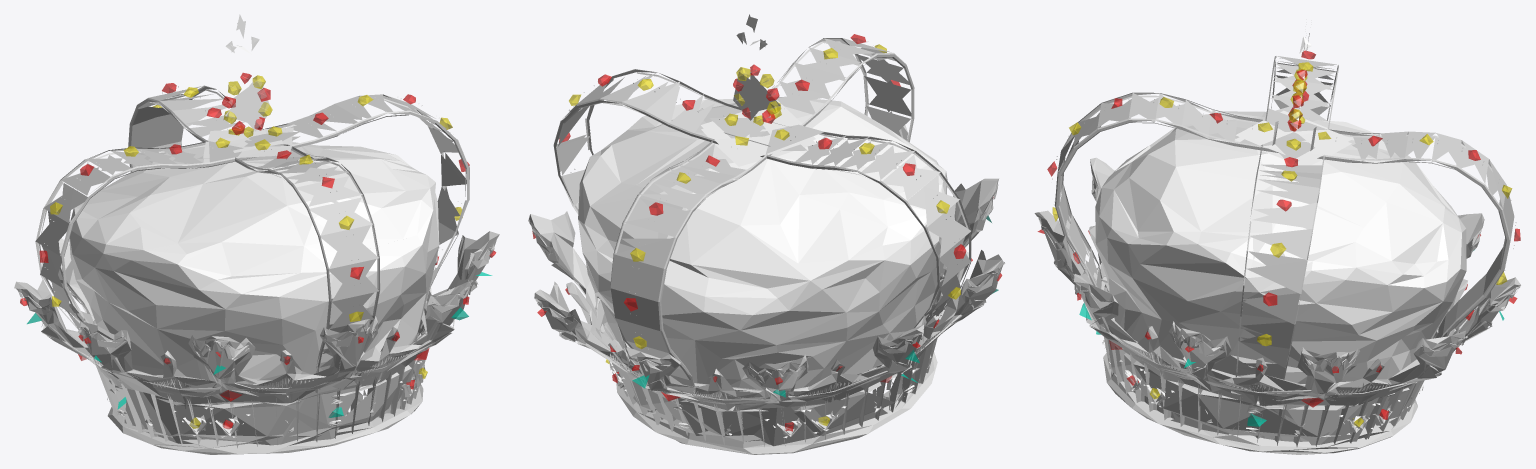
Rendered from Crownhat_runtime.glb.
The picture shows the model from 3 angles, left to right: view 1: azimuth 30°, elevation 25°; view 2: azimuth 150°, elevation 25°; view 3: azimuth 270°, elevation 25°; orthographic projection.
Parts seen in each view (by area): view 1: Cloth04, Gold_venec04, Gold_adornments04 (×2), rubbin04, Yellows04, emeralds04; view 2: Cloth04, Gold_adornments04 (×2), Gold_venec04, rubbin04, Yellows04; view 3: Cloth04, Gold_venec04, Gold_adornments04 (×2), rubbin04, Yellows04.
Boxes of the visible parts, box(x1,y1,x2,y2) form: Cloth04: box(69, 140, 439, 380); Gold_venec04: box(14, 130, 499, 454); Gold_adornments04 (×2): box(35, 14, 469, 437); rubbin04: box(20, 72, 496, 429); Yellows04: box(50, 75, 462, 428); emeralds04: box(27, 272, 492, 417); Cloth04: box(578, 96, 947, 390); Gold_adornments04 (×2): box(553, 14, 971, 438); Gold_venec04: box(528, 117, 1005, 454); rubbin04: box(532, 34, 1002, 431); Yellows04: box(569, 44, 960, 425); Cloth04: box(1095, 111, 1466, 383); Gold_venec04: box(1034, 121, 1521, 454); Gold_adornments04 (×2): box(1052, 33, 1516, 436); rubbin04: box(1037, 50, 1520, 419); Yellows04: box(1052, 62, 1512, 427).
Size of the model in its own units: 1.19 by 1.08 by 1.22.
